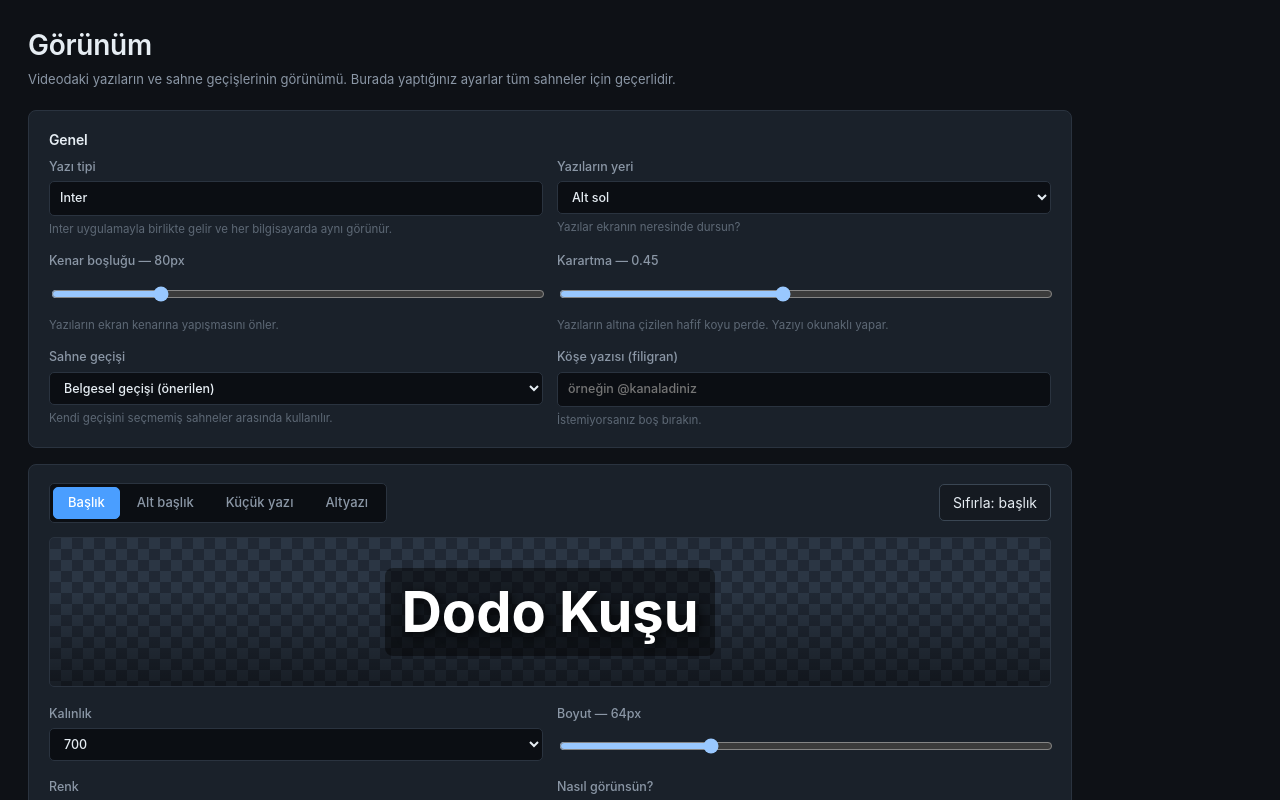
Test: StylePage › reveals subtitle cue-timing controls only on the Subtitles tab
Check: the text "Altyazı satırları" is not shown
Click the tab "Altyazı" at [347, 503], box [310,487,383,518]
(page scrolled)
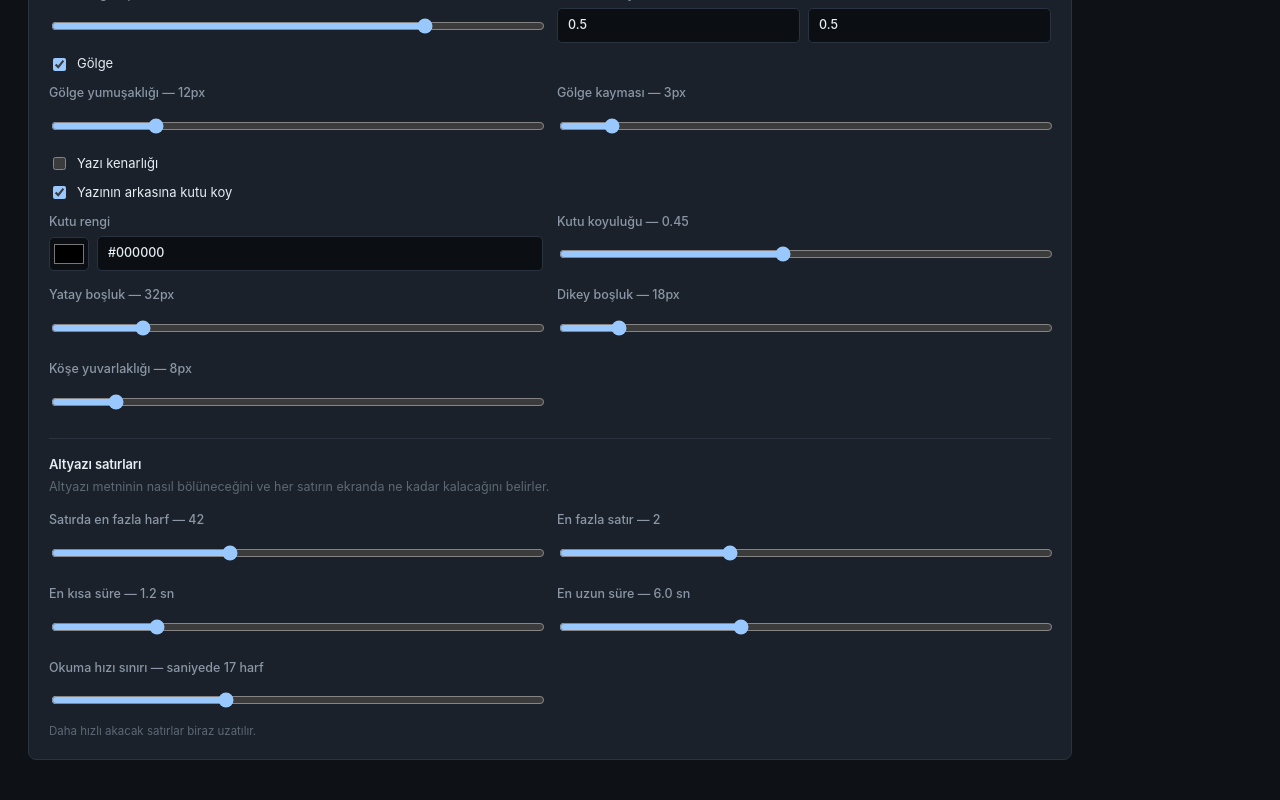
Check: the heading "Altyazı satırları" is shown, box [49,456,141,472]
Check: the text "Okuma hızı sınırı — saniyede 17 harf" is shown, box [49,660,264,674]
